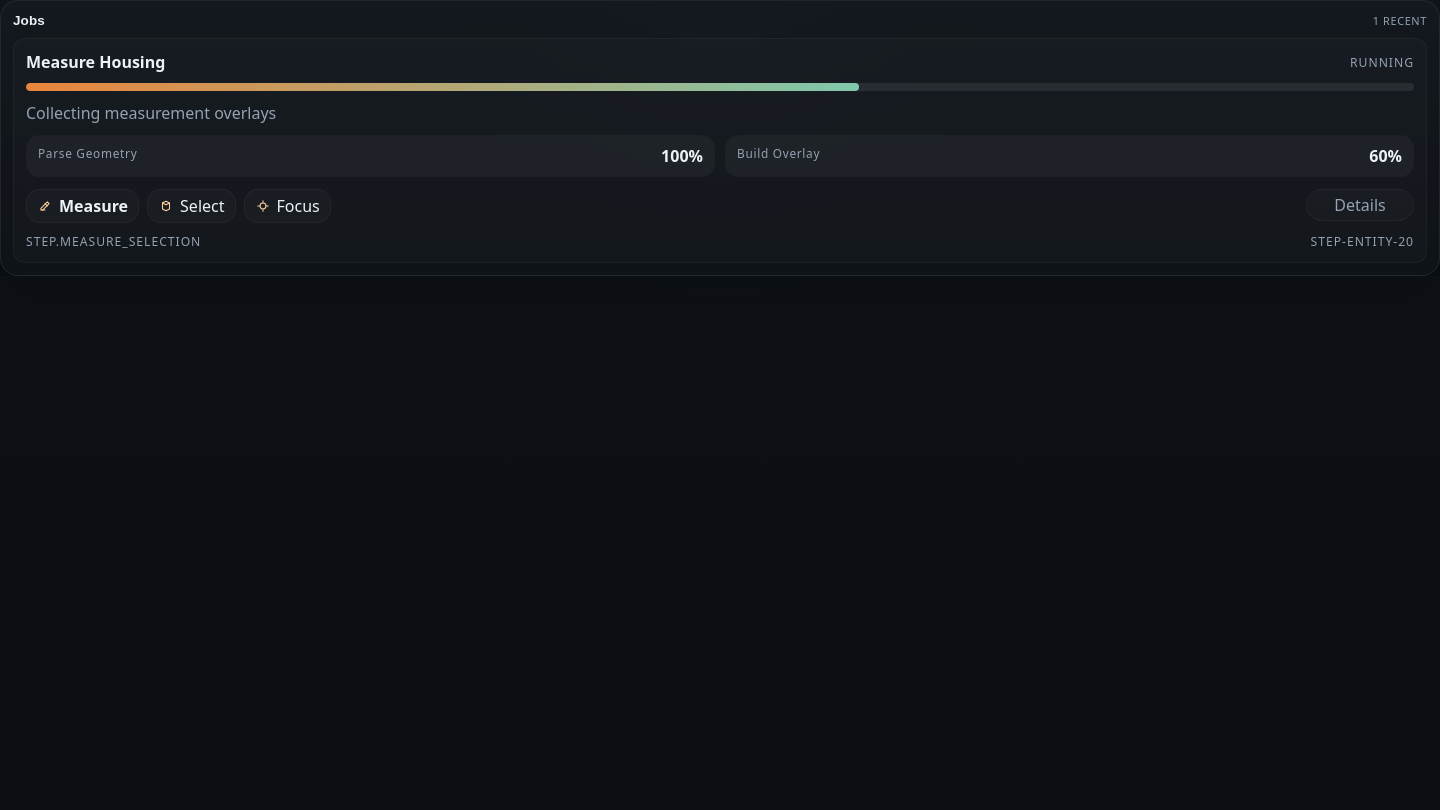
it: App component surfaces › expands a job card into stage diagnostics and related backend activity excerpts
Click the button "Details" at {"x": 1360, "y": 205}, box [1306, 189, 1414, 221]
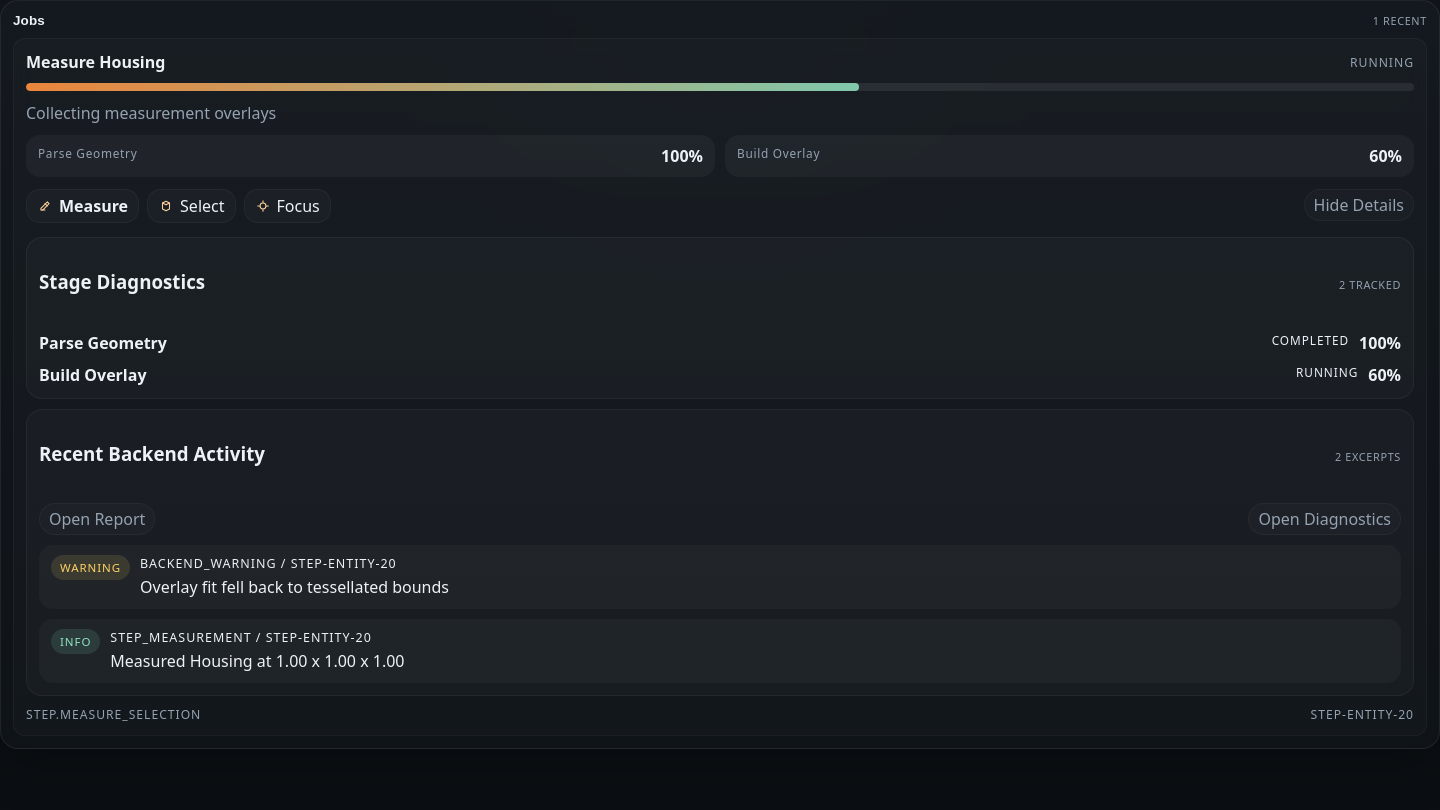
Expected: the text "Parse Geometry" next to "completed" is shown, [39, 332, 167, 354]
Expected: the text "Build Overlay" below "completed" is shown, [39, 364, 146, 386]
Expected: the text "Measured Housing at 1.00 x 1.00 x 1.00" is shown, [110, 650, 404, 672]
